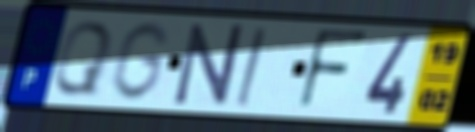4: (362, 31, 413, 118)
F: (295, 27, 371, 114)
G: (107, 20, 173, 104)
I: (233, 25, 269, 109)
N: (171, 22, 246, 108)
Q: (49, 19, 116, 98)
